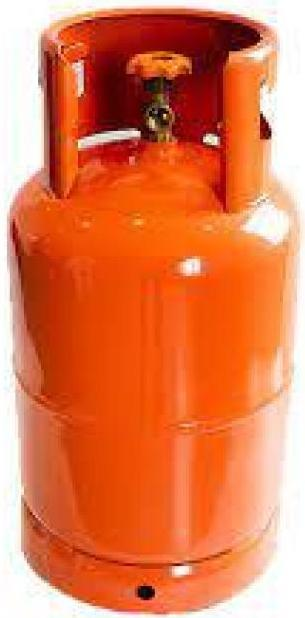cylinder: (1, 1, 305, 618)
